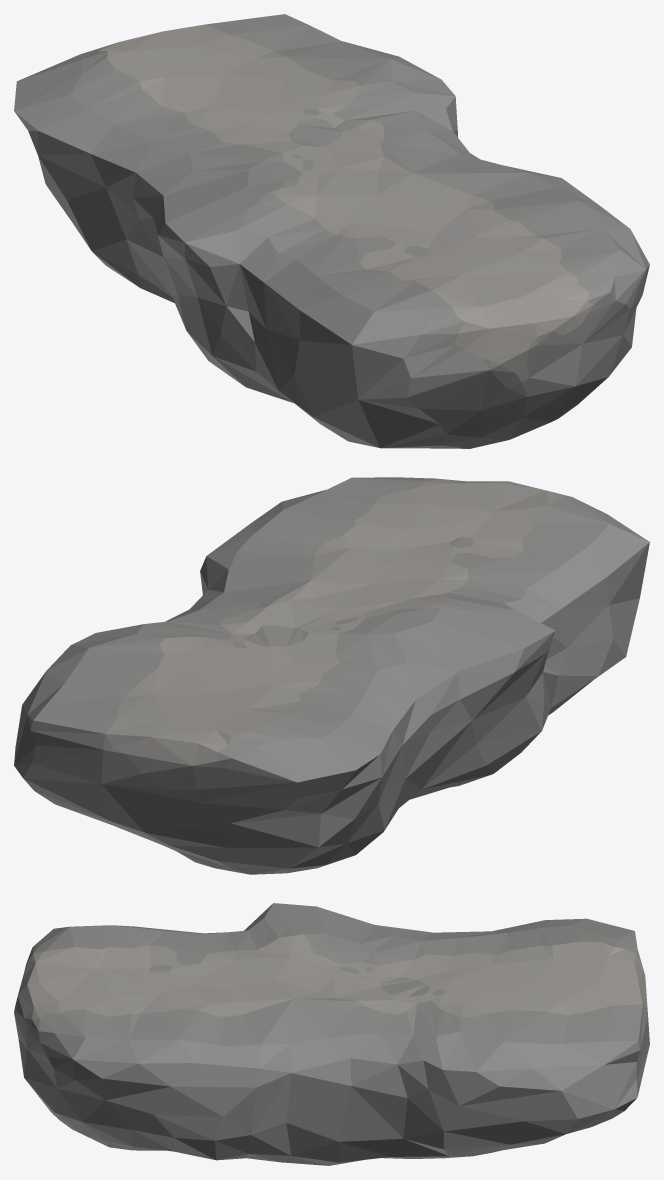
The model's file is Cavern_Floor_Narrow_Straight-02.fbx.
The picture shows the model from 3 angles, top to bottom: view 1: azimuth 30°, elevation 25°; view 2: azimuth 150°, elevation 25°; view 3: azimuth 270°, elevation 25°; orthographic projection. The views are drawn at different scales.
Parts seen in each view (by area): view 1: Cavern_Floor_Narrow_Straight-02; view 2: Cavern_Floor_Narrow_Straight-02; view 3: Cavern_Floor_Narrow_Straight-02.
Part boxes in pixels (x1,y1,x2,y2): Cavern_Floor_Narrow_Straight-02: (14,14,649,448); Cavern_Floor_Narrow_Straight-02: (14,477,649,874); Cavern_Floor_Narrow_Straight-02: (14,903,649,1165).
Size of the model in its own units: 1012 by 503 by 1744.
1 material, 1 textured.
